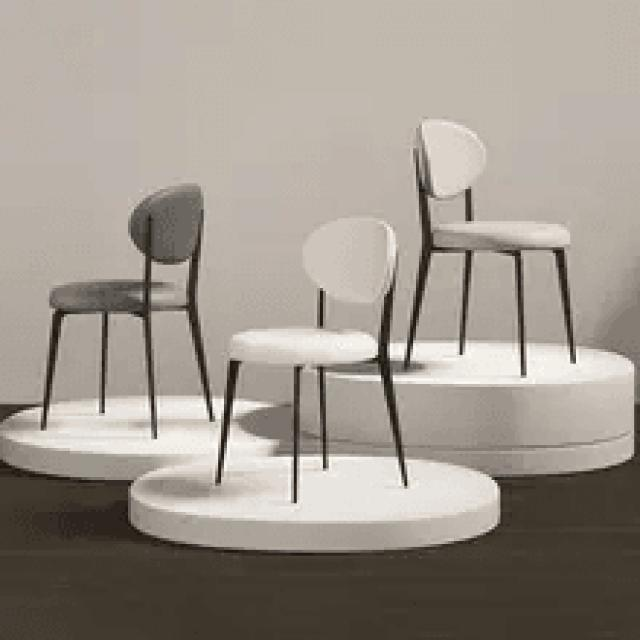chair: (212, 214, 412, 506), (402, 111, 581, 376), (37, 178, 219, 438), (218, 218, 402, 367), (46, 177, 206, 315), (414, 115, 570, 251)
